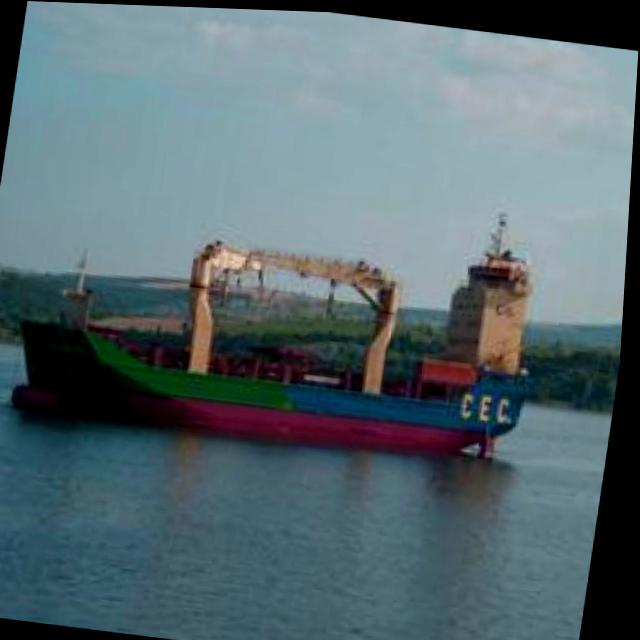ship2: (14, 206, 544, 459)
